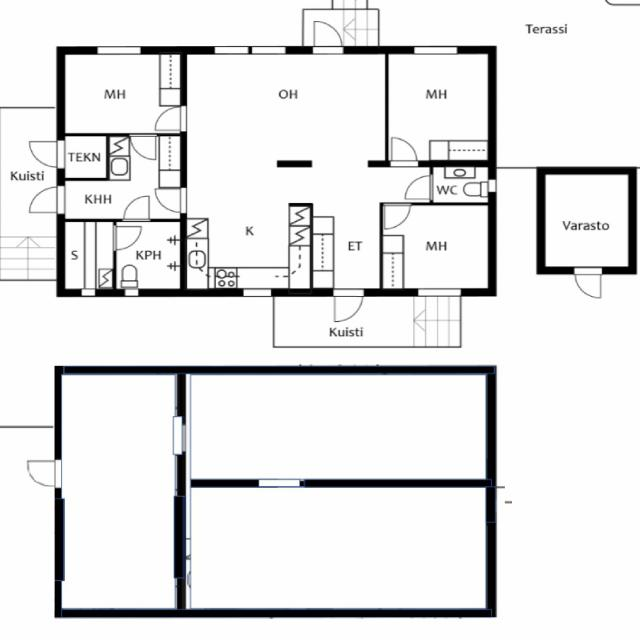door: (28, 187, 65, 213), (314, 20, 342, 54), (334, 288, 362, 322), (29, 141, 64, 167), (27, 461, 61, 486), (574, 266, 600, 298), (155, 106, 187, 130), (154, 189, 187, 212), (392, 137, 416, 167), (130, 133, 156, 159), (385, 202, 410, 228), (114, 227, 142, 250), (404, 176, 433, 198), (124, 196, 148, 222)
